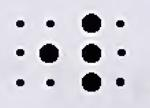dot_5: (17, 19, 59, 86)
two_cell_alphabet_larawan: (82, 12, 127, 91)
